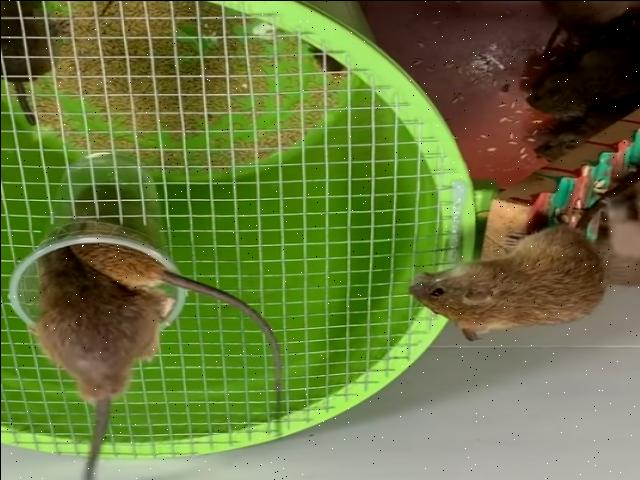Tikus: (26, 238, 292, 428), (407, 216, 602, 343), (526, 44, 638, 116)
